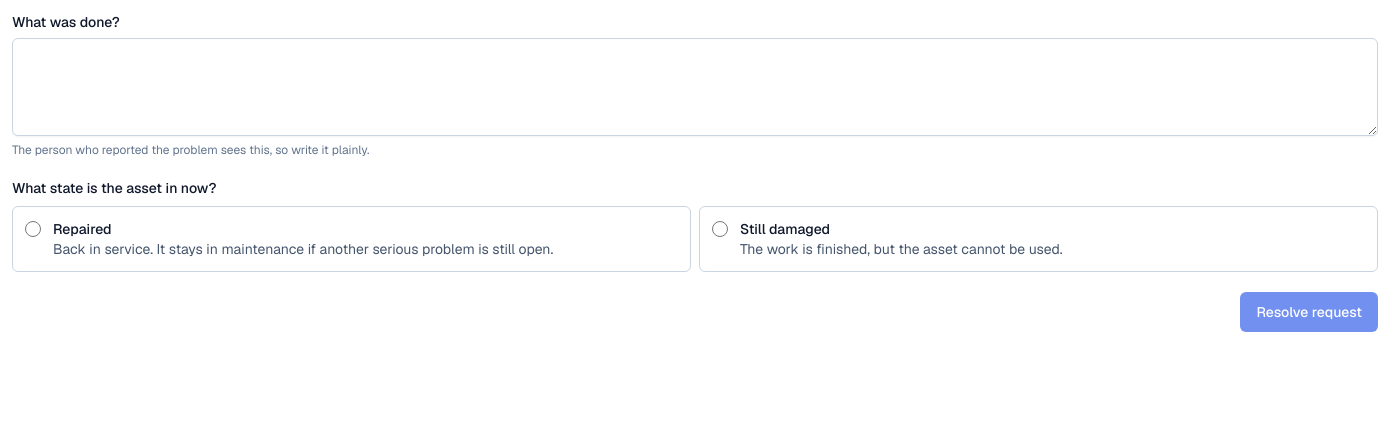
Test: ResolveForm › keeps_what_was_typed_when_the_database_refuses
The image size is (1390, 437).
Type "Replaced the lamp" into the text box labelled "What was done?" at (695,87), box x1=12 y1=38 x2=1378 y2=136
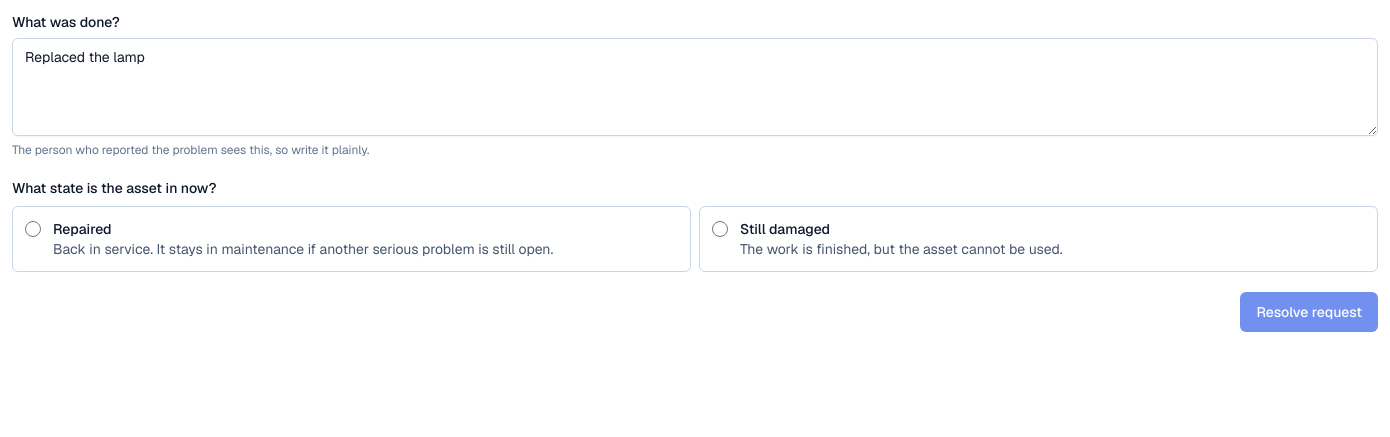
Click the radio button labelled "Still damaged" at (720,229), box x1=712 y1=221 x2=728 y2=237
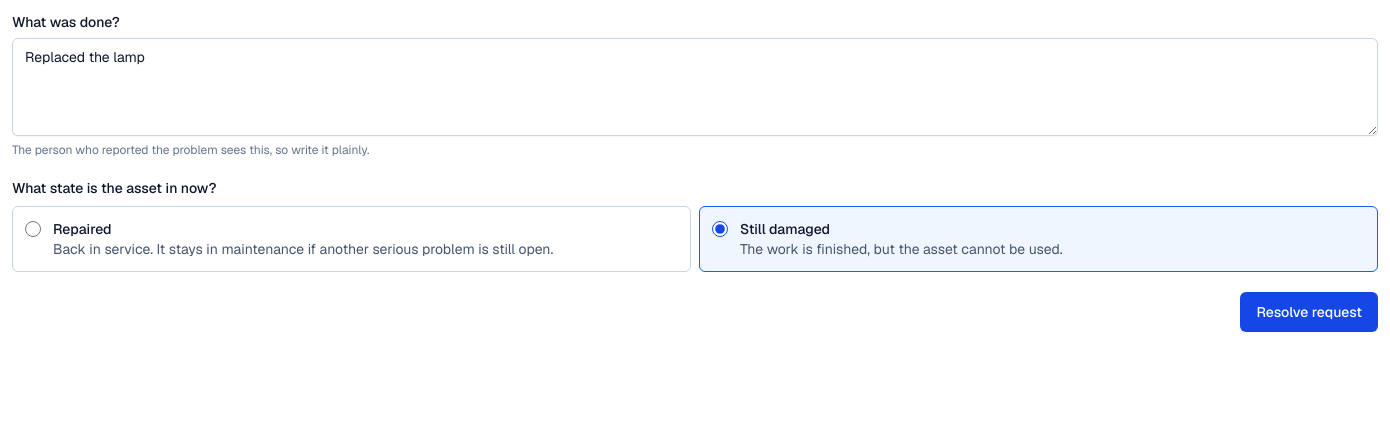
Click the button "Resolve request" at (1309,312), box x1=1240 y1=292 x2=1378 y2=332
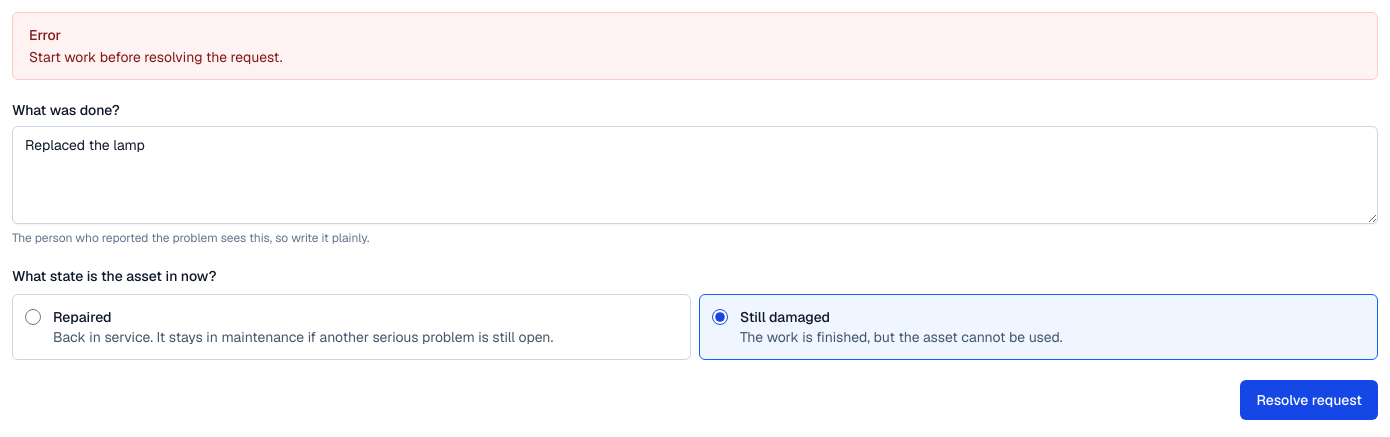
Check: the radio button labelled "Still damaged" is checked, box x1=712 y1=309 x2=728 y2=325
Check: the message shows "Start work before resolving", box x1=29 y1=48 x2=282 y2=66
